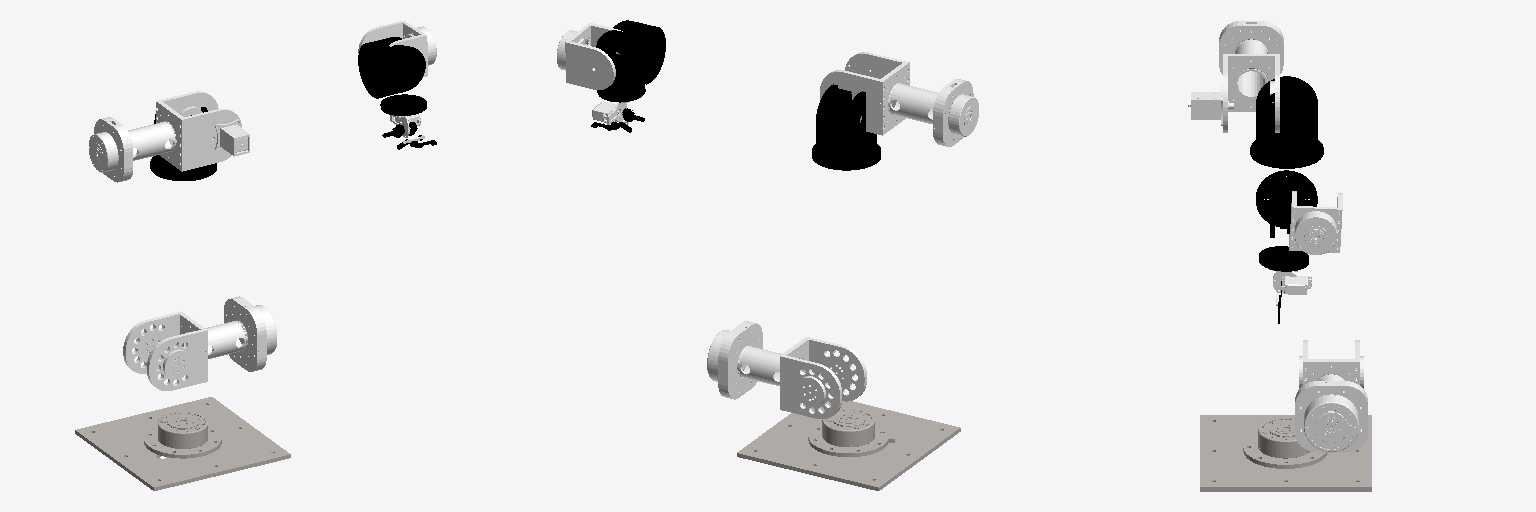
robot.urdf — daadbot:
<?xml version="1.0" ?>
<!-- =================================================================================== -->
<!-- |    This document was autogenerated by xacro from [local-path]/sdaadof_ws/src/daadbot_desc/urdf/daadbot.urdf.xacro | -->
<!-- |    EDITING THIS FILE BY HAND IS NOT RECOMMENDED                                 | -->
<!-- =================================================================================== -->
<robot name="daadbot">
  <gazebo>
    <plugin filename="gz_ros2_control-system" name="gz_ros2_control::GazeboSimROS2ControlPlugin">
      <parameters>[local-path]/sdaadof_ws/install/daadbot_controller/share/daadbot_controller/config/daadbot_controllers.yaml</parameters>
    </plugin>
  </gazebo>
  <ros2_control name="Manipulator" type="system">
    <hardware>
      <plugin>gz_ros2_control/GazeboSimSystem</plugin>
    </hardware>
    <joint name="joint_1">
      <command_interface name="position">
        <param name="min">-1.5707963267948966</param>
        <param name="max">1.5707963267948966</param>
      </command_interface>
      <state_interface name="position"/>
      <state_interface name="velocity"/>
      <state_interface name="effort"/>
    </joint>
    <joint name="joint_2">
      <command_interface name="position">
        <param name="min">-1.5707963267948966</param>
        <param name="max">1.5707963267948966</param>
      </command_interface>
      <state_interface name="position"/>
      <state_interface name="velocity"/>
      <state_interface name="effort"/>
    </joint>
    <joint name="joint_3">
      <command_interface name="position">
        <param name="min">-1.5707963267948966</param>
        <param name="max">1.5707963267948966</param>
      </command_interface>
      <state_interface name="position"/>
      <state_interface name="velocity"/>
      <state_interface name="effort"/>
    </joint>
    <joint name="joint_4">
      <command_interface name="position">
        <param name="min">-1.5707963267948966</param>
        <param name="max">1.5707963267948966</param>
      </command_interface>
      <state_interface name="position"/>
      <state_interface name="velocity"/>
      <state_interface name="effort"/>
    </joint>
    <joint name="joint_5">
      <command_interface name="position">
        <param name="min">-1.5707963267948966</param>
        <param name="max">1.5707963267948966</param>
      </command_interface>
      <state_interface name="position"/>
      <state_interface name="velocity"/>
      <state_interface name="effort"/>
    </joint>
    <joint name="joint_6">
      <command_interface name="position">
        <param name="min">-1.5707963267948966</param>
        <param name="max">1.5707963267948966</param>
      </command_interface>
      <state_interface name="position"/>
      <state_interface name="velocity"/>
      <state_interface name="effort"/>
    </joint>
    <joint name="joint_7">
      <command_interface name="position">
        <param name="min">-1.5707963267948966</param>
        <param name="max">1.5707963267948966</param>
      </command_interface>
      <state_interface name="position"/>
      <state_interface name="velocity"/>
      <state_interface name="effort"/>
    </joint>
    <joint name="gear1_joint">
      <command_interface name="position">
        <param name="min">-51.6</param>
        <param name="max">0.0</param>
      </command_interface>
      <state_interface name="position"/>
      <state_interface name="velocity"/>
      <state_interface name="effort"/>
    </joint>
    <joint name="base_claw_joint1">
      <param name="mimic">gear1_joint</param>
      <param name="multiplier">-1</param>
    </joint>
    <joint name="claw_joint1">
      <param name="mimic">base_claw_joint1</param>
      <param name="multiplier">1</param>
      <state_interface name="position"/>
      <state_interface name="velocity"/>
      <state_interface name="effort"/>
    </joint>
    <joint name="gear2_joint">
      <param name="mimic">gear1_joint</param>
      <param name="multiplier">-1</param>
    </joint>
    <joint name="base_claw_joint2">
      <param name="mimic">gear1_joint</param>
      <param name="multiplier">-1</param>
    </joint>
    <joint name="claw_joint2">
      <param name="mimic">base_claw_joint2</param>
      <param name="multiplier">-1</param>
    </joint>
  </ros2_control>
  <link name="world"/>
  <joint name="base_joint" type="fixed">
    <parent link="world"/>
    <child link="base_link"/>
    <origin rpy="0 0 0" xyz="0 0 0"/>
  </joint>
  <link name="base_link">
    <inertial>
      <origin rpy="0 0 0" xyz="0.00049737 0.00026123 0.0072038"/>
      <mass value="6.9112"/>
      <inertia ixx="0.046617" ixy="0.00010077" ixz="5.1488E-08" iyy="0.046482" iyz="-1.4461E-07" izz="0.092984"/>
    </inertial>
    <visual>
      <origin rpy="0 0 0" xyz="0 0 0"/>
      <geometry>
        <mesh filename="package://daadbot_desc/meshes/base_link.STL"/>
      </geometry>
      <material name="">
        <color rgba="0.77647 0.75686 0.73725 1"/>
      </material>
    </visual>
    <collision>
      <origin rpy="0 0 0" xyz="0 0 0"/>
      <geometry>
        <mesh filename="package://daadbot_desc/meshes/base_link.STL"/>
      </geometry>
    </collision>
  </link>
  <link name="Link_1">
    <inertial>
      <origin rpy="0 0 0" xyz="1.4551E-05 -0.0043711 0.069929"/>
      <mass value="1.4053"/>
      <inertia ixx="0.0017174" ixy="6.6784E-08" ixz="3.5551E-07" iyy="0.002626" iyz="6.0024E-06" izz="0.0017063"/>
    </inertial>
    <visual>
      <origin rpy="0 0 0" xyz="0 0 0"/>
      <geometry>
        <mesh filename="package://daadbot_desc/meshes/Link_1.STL"/>
      </geometry>
      <material name="">
        <color rgba="0 0 0 1"/>
      </material>
    </visual>
    <collision>
      <origin rpy="0 0 0" xyz="0 0 0"/>
      <geometry>
        <mesh filename="package://daadbot_desc/meshes/Link_1.STL"/>
      </geometry>
    </collision>
  </link>
  <joint name="joint_1" type="continuous">
    <origin rpy="0 0 3.1416" xyz="0 0 0.05"/>
    <parent link="base_link"/>
    <child link="Link_1"/>
    <axis xyz="0 0 -1"/>
    <limit effort="30.0" lower="0" upper="3.14" velocity="10.0"/>
  </joint>
  <link name="Link_2">
    <inertial>
      <origin rpy="0 0 0" xyz="-6.5548E-05 0.21409 0.034291"/>
      <mass value="3.4329"/>
      <inertia ixx="0.0091312" ixy="-2.4753E-06" ixz="8.4256E-07" iyy="0.0057112" iyz="5.0607E-06" izz="0.0099035"/>
    </inertial>
    <visual>
      <origin rpy="0 0 0" xyz="0 0 0"/>
      <geometry>
        <mesh filename="package://daadbot_desc/meshes/Link_2.STL"/>
      </geometry>
      <material name="">
        <color rgba="1 1 1 1"/>
      </material>
    </visual>
    <collision>
      <origin rpy="0 0 0" xyz="0 0 0"/>
      <geometry>
        <mesh filename="package://daadbot_desc/meshes/Link_2.STL"/>
      </geometry>
    </collision>
  </link>
  <joint name="joint_2" type="revolute">
    <origin rpy="1.5707963267949 0 -3.14159265358979" xyz="0 -0.02999999999948 0.107500000000395"/>
    <parent link="Link_1"/>
    <child link="Link_2"/>
    <axis xyz="0 0 -1"/>
    <limit effort="30.0" lower="-1.9199" upper="1.9199" velocity="10.0"/>
  </joint>
  <link name="Link_3">
    <inertial>
      <origin rpy="0 0 0" xyz="-2.1655E-05 0.0044003 0.0672"/>
      <mass value="1.3788"/>
      <inertia ixx="0.0016215" ixy="-9.275E-08" ixz="2.8899E-07" iyy="0.0025027" iyz="-5.4475E-06" izz="0.0016785"/>
    </inertial>
    <visual>
      <origin rpy="0 0 0" xyz="0 0 0"/>
      <geometry>
        <mesh filename="package://daadbot_desc/meshes/Link_3.STL"/>
      </geometry>
      <material name="">
        <color rgba="0 0 0 1"/>
      </material>
    </visual>
    <collision>
      <origin rpy="0 0 0" xyz="0 0 0"/>
      <geometry>
        <mesh filename="package://daadbot_desc/meshes/Link_3.STL"/>
      </geometry>
    </collision>
  </link>
  <joint name="joint_3" type="continuous">
    <origin rpy="1.57079632680726 0 3.14159265358979" xyz="0.000359289684152012 0.435033961918617 0.0294474762975983"/>
    <parent link="Link_2"/>
    <child link="Link_3"/>
    <axis xyz="0 0 -1"/>
    <limit effort="30.0" lower="0" upper="3.14" velocity="10.0"/>
  </joint>
  <link name="Link_4">
    <inertial>
      <origin rpy="0 0 0" xyz="0.22054 0.00021752 -0.034312"/>
      <mass value="3.5515"/>
      <inertia ixx="0.0043885" ixy="2.6288E-06" ixz="-3.6827E-06" iyy="0.0083524" iyz="-3.8569E-06" izz="0.0091315"/>
    </inertial>
    <visual>
      <origin rpy="0 0 0" xyz="0 0 0"/>
      <geometry>
        <mesh filename="package://daadbot_desc/meshes/Link_4.STL"/>
      </geometry>
      <material name="">
        <color rgba="1 1 1 1"/>
      </material>
    </visual>
    <collision>
      <origin rpy="0 0 0" xyz="0 0 0"/>
      <geometry>
        <mesh filename="package://daadbot_desc/meshes/Link_4.STL"/>
      </geometry>
    </collision>
  </link>
  <joint name="joint_4" type="revolute">
    <origin rpy="1.5707963267949 0 3.14159265358979" xyz="0 0.0299999999999995 0.102500000000001"/>
    <parent link="Link_3"/>
    <child link="Link_4"/>
    <axis xyz="0 0 1"/>
    <limit effort="30.0" lower="-0.2618" upper="3.4907" velocity="10.0"/>
  </joint>
  <link name="Link_5">
    <inertial>
      <origin rpy="0 0 0" xyz="0.0058409 -0.0002627 0.054755"/>
      <mass value="1.4559"/>
      <inertia ixx="0.0013388" ixy="-2.389E-05" ixz="-1.7038E-06" iyy="0.00084376" iyz="-2.3795E-07" izz="0.0009966"/>
    </inertial>
    <visual>
      <origin rpy="0 0 0" xyz="0 0 0"/>
      <geometry>
        <mesh filename="package://daadbot_desc/meshes/Link_5.STL"/>
      </geometry>
      <material name="">
        <color rgba="0 0 0 1"/>
      </material>
    </visual>
    <collision>
      <origin rpy="0 0 0" xyz="0 0 0"/>
      <geometry>
        <mesh filename="package://daadbot_desc/meshes/Link_5.STL"/>
      </geometry>
    </collision>
  </link>
  <joint name="joint_5" type="continuous">
    <origin rpy="0 1.5707963267949 0" xyz="0.419299903678905 0 -0.0294999999999992"/>
    <parent link="Link_4"/>
    <child link="Link_5"/>
    <axis xyz="0 0 -1"/>
    <limit effort="30.0" lower="0" upper="3.14" velocity="10.0"/>
  </joint>
  <link name="Link_6">
    <inertial>
      <origin rpy="0 0 0" xyz="0.00011175 -0.056394 -0.023876"/>
      <mass value="1.4077"/>
      <inertia ixx="0.00078211" ixy="-9.9306E-07" ixz="3.1036E-06" iyy="0.0010474" iyz="1.657E-06" izz="0.00099212"/>
    </inertial>
    <visual>
      <origin rpy="0 0 0" xyz="0 0 0"/>
      <geometry>
        <mesh filename="package://daadbot_desc/meshes/link_6.STL"/>
      </geometry>
      <material name="">
        <color rgba="1 1 1 1"/>
      </material>
    </visual>
    <collision>
      <origin rpy="0 0 0" xyz="0 0 0"/>
      <geometry>
        <mesh filename="package://daadbot_desc/meshes/link_6.STL"/>
      </geometry>
    </collision>
  </link>
  <joint name="joint_6" type="revolute">
    <origin rpy="0.0506935943659278 1.5707963267949 0" xyz="0.0239691789943203 -0.00121612576549357 0.0675000000000011"/>
    <parent link="Link_5"/>
    <child link="Link_6"/>
    <axis xyz="0 0 1"/>
    <limit effort="30.0" lower="-3.141001" upper="0.00001" velocity="10.0"/>
  </joint>
  <link name="Link_7">
    <inertial>
      <origin rpy="0 0 0" xyz="8.2711E-06 3.9121E-07 0.0087604"/>
      <mass value="0.18439"/>
      <inertia ixx="8.0523E-05" ixy="-8.9234E-11" ixz="-4.712E-11" iyy="8.0525E-05" iyz="-2.2287E-12" izz="0.00015908"/>
    </inertial>
    <visual>
      <origin rpy="0 0 0" xyz="0 0 0"/>
      <geometry>
        <mesh filename="package://daadbot_desc/meshes/Link_7.STL"/>
      </geometry>
      <material name="">
        <color rgba="0 0 0 1"/>
      </material>
    </visual>
    <collision>
      <origin rpy="0 0 0" xyz="0 0 0"/>
      <geometry>
        <mesh filename="package://daadbot_desc/meshes/Link_7.STL"/>
      </geometry>
    </collision>
  </link>
  <joint name="joint_7" type="continuous">
    <origin rpy="-1.5707963267949 0 3.14159265358979" xyz="0 -0.0909999036788988 -0.0244999999999991"/>
    <parent link="Link_6"/>
    <child link="Link_7"/>
    <axis xyz="0 0 -1"/>
    <limit effort="30.0" lower="0" upper="3.14" velocity="10.0"/>
  </joint>
  <link name="endeffector">
    <inertial>
      <origin rpy="0 0 0" xyz="-0.0198 -0.019334 0.047383"/>
      <mass value="0.10291"/>
      <inertia ixx="1.41E-05" ixy="-4.3343E-07" ixz="-9.812E-08" iyy="2.056E-05" iyz="-4.6453E-09" izz="2.527E-05"/>
    </inertial>
    <visual>
      <origin rpy="0 0 0" xyz="0 0 0"/>
      <geometry>
        <mesh filename="package://daadbot_desc/meshes/endeffector.STL"/>
      </geometry>
      <material name="">
        <color rgba="1 1 1 1"/>
      </material>
    </visual>
    <collision>
      <origin rpy="0 0 0" xyz="0 0 0"/>
      <geometry>
        <mesh filename="package://daadbot_desc/meshes/endeffector.STL"/>
      </geometry>
    </collision>
  </link>
  <joint name="endeffector_joint" type="fixed">
    <origin rpy="0 0 0" xyz="0 0 0"/>
    <parent link="Link_7"/>
    <child link="endeffector"/>
    <axis xyz="0 0 0"/>
  </joint>
  <link name="gear1">
    <inertial>
      <origin rpy="0 0 0" xyz="0.00049542 -0.0057094 0.0018167"/>
      <mass value="0.0053"/>
      <inertia ixx="7.5591E-07" ixy="-2.1833E-08" ixz="-6.9871E-09" iyy="1.8107E-07" iyz="3.6804E-08" izz="9.2464E-07"/>
    </inertial>
    <visual>
      <origin rpy="0 0 0" xyz="0 0 0"/>
      <geometry>
        <mesh filename="package://daadbot_desc/meshes/gear1.STL"/>
      </geometry>
      <material name="">
        <color rgba="0 0 0 1"/>
      </material>
    </visual>
    <collision>
      <origin rpy="0 0 0" xyz="0 0 0"/>
      <geometry>
        <mesh filename="package://daadbot_desc/meshes/gear1.STL"/>
      </geometry>
    </collision>
  </link>
  <joint name="gear1_joint" type="revolute">
    <origin rpy="-1.52010273242897 0 0" xyz="-0.0136030394768413 0.00185938617586617 0.0481789689084899"/>
    <parent link="endeffector"/>
    <child link="gear1"/>
    <axis xyz="-0.0472460759822869 0.0506152984712181 0.997600070100712"/>
    <limit effort="30.0" lower="-0.9" upper="0" velocity="10.0"/>
  </joint>
  <link name="gear1_claw">
    <inertial>
      <origin rpy="0 0 0" xyz="0.0054214 -0.023631 -0.0030551"/>
      <mass value="0.0039374"/>
      <inertia ixx="1.2119E-06" ixy="1.6298E-07" ixz="-1.0864E-08" iyy="6.47E-08" iyz="6.8703E-08" izz="1.2627E-06"/>
    </inertial>
    <visual>
      <origin rpy="0 0 0" xyz="0 0 0"/>
      <geometry>
        <mesh filename="package://daadbot_desc/meshes/gear1_claw.STL"/>
      </geometry>
      <material name="">
        <color rgba="0 0 0 1"/>
      </material>
    </visual>
    <collision>
      <origin rpy="0 0 0" xyz="0 0 0"/>
      <geometry>
        <mesh filename="package://daadbot_desc/meshes/gear1_claw.STL"/>
      </geometry>
    </collision>
  </link>
  <joint name="claw_joint1" type="revolute">
    <origin rpy="0 0 0" xyz="-0.000267699277291311 -0.0308336350288896 0.00405774420117622"/>
    <parent link="gear1"/>
    <child link="gear1_claw"/>
    <axis xyz="-0.0472460759822531 0.0506152984712519 0.997600070100712"/>
    <limit effort="30.0" lower="0" upper="0.9" velocity="10.0"/>
    <mimic joint="base_claw_joint1" multiplier="1" offset="0"/>
  </joint>
  <link name="gear2_link">
    <inertial>
      <origin rpy="0 0 0" xyz="0.00014723 -0.0053735 -0.001224"/>
      <mass value="0.0057636"/>
      <inertia ixx="8.0509E-07" ixy="7.9758E-09" ixz="-1.0182E-08" iyy="2.1764E-07" iyz="4.0658E-08" izz="1.009E-06"/>
    </inertial>
    <visual>
      <origin rpy="0 0 0" xyz="0 0 0"/>
      <geometry>
        <mesh filename="package://daadbot_desc/meshes/gear2_link.STL"/>
      </geometry>
      <material name="">
        <color rgba="0 0 0 1"/>
      </material>
    </visual>
    <collision>
      <origin rpy="0 0 0" xyz="0 0 0"/>
      <geometry>
        <mesh filename="package://daadbot_desc/meshes/gear2_link.STL"/>
      </geometry>
    </collision>
  </link>
  <joint name="gear2_joint" type="revolute">
    <origin rpy="-1.52010273242897 0 0" xyz="0.013248693908315 0.0056322384288611 0.0481789689082828"/>
    <parent link="endeffector"/>
    <child link="gear2_link"/>
    <axis xyz="-0.0472460759822667 0.0506152984712492 0.997600070100711"/>
    <limit effort="30.0" lower="0" upper="0.9" velocity="10.0"/>
    <mimic joint="gear1_joint" multiplier="-1" offset="0"/>
  </joint>
  <link name="gear2_claw">
    <inertial>
      <origin rpy="0 0 0" xyz="-0.0049965 -0.023656 -0.0035472"/>
      <mass value="0.0039374"/>
      <inertia ixx="1.2119E-06" ixy="-1.6326E-07" ixz="5.6881E-09" iyy="6.3141E-08" iyz="5.3332E-08" izz="1.2642E-06"/>
    </inertial>
    <visual>
      <origin rpy="0 0 0" xyz="0 0 0"/>
      <geometry>
        <mesh filename="package://daadbot_desc/meshes/gear2_claw.STL"/>
      </geometry>
      <material name="">
        <color rgba="0 0 0 1"/>
      </material>
    </visual>
    <collision>
      <origin rpy="0 0 0" xyz="0 0 0"/>
      <geometry>
        <mesh filename="package://daadbot_desc/meshes/gear2_claw.STL"/>
      </geometry>
    </collision>
  </link>
  <joint name="claw_joint2" type="revolute">
    <origin rpy="0 0 0" xyz="0.000446202525255179 -0.0309558921236726 0.00159174310957538"/>
    <parent link="gear2_link"/>
    <child link="gear2_claw"/>
    <axis xyz="-0.0472460759823001 0.050615298471215 0.997600070100712"/>
    <limit effort="30.0" lower="-0.9" upper="0" velocity="10.0"/>
    <mimic joint="base_claw_joint2" multiplier="-1" offset="0"/>
  </joint>
  <link name="base_claw_link2">
    <inertial>
      <origin rpy="0 0 0" xyz="0.00030048 -0.015554 -0.00070023"/>
      <mass value="0.0011042"/>
      <inertia ixx="1.5464E-07" ixy="2.238E-09" ixz="-1.8519E-10" iyy="3.5683E-09" iyz="7.8475E-09" izz="1.5574E-07"/>
    </inertial>
    <visual>
      <origin rpy="0 0 0" xyz="0 0 0"/>
      <geometry>
        <mesh filename="package://daadbot_desc/meshes/base_claw_link2.STL"/>
      </geometry>
      <material name="">
        <color rgba="1 1 1 1"/>
      </material>
    </visual>
    <collision>
      <origin rpy="0 0 0" xyz="0 0 0"/>
      <geometry>
        <mesh filename="package://daadbot_desc/meshes/base_claw_link2.STL"/>
      </geometry>
    </collision>
  </link>
  <joint name="base_claw_joint2" type="revolute">
    <origin rpy="-1.52010273242897 0 0" xyz="0.00500790684313079 0.00524245830200445 0.0685789689082188"/>
    <parent link="Link_7"/>
    <child link="base_claw_link2"/>
    <axis xyz="-0.0472460759822792 0.0506152984712578 0.99760007010071"/>
    <limit effort="30.0" lower="0" upper="0.9" velocity="10.0"/>
    <mimic joint="gear1_joint" multiplier="-1" offset="0"/>
  </joint>
  <link name="base_claw_link1">
    <inertial>
      <origin rpy="0 0 0" xyz="-1.058E-05 -0.015556 -0.00071484"/>
      <mass value="0.0011042"/>
      <inertia ixx="1.5467E-07" ixy="-7.9881E-10" ixz="-2.9739E-11" iyy="3.5247E-09" iyz="7.7059E-09" izz="1.5576E-07"/>
    </inertial>
    <visual>
      <origin rpy="0 0 0" xyz="0 0 0"/>
      <geometry>
        <mesh filename="package://daadbot_desc/meshes/base_claw_link1.STL"/>
      </geometry>
      <material name="">
        <color rgba="1 1 1 1"/>
      </material>
    </visual>
    <collision>
      <origin rpy="0 0 0" xyz="0 0 0"/>
      <geometry>
        <mesh filename="package://daadbot_desc/meshes/base_claw_link1.STL"/>
      </geometry>
    </collision>
  </link>
  <joint name="base_claw_joint1" type="revolute">
    <origin rpy="-1.52010273242897 0 0" xyz="-0.00548036760308535 0.0047463745042049 0.0685789689085226"/>
    <parent link="Link_7"/>
    <child link="base_claw_link1"/>
    <axis xyz="0.0472460759822863 -0.0506152984712078 -0.997600070100712"/>
    <limit effort="30.0" lower="0" upper="0.9" velocity="10.0"/>
    <mimic joint="gear1_joint" multiplier="-1" offset="0"/>
  </joint>
</robot>

--- Facts derived from the render (not from the file) ---
3 views of the same robot in one strip: view 1: azimuth 30°, elevation 25°; view 2: azimuth 150°, elevation 25°; view 3: azimuth 270°, elevation 25° (orthographic).
Model daadbot with 16 links and 15 joints (9 revolute, 4 continuous, 2 fixed), rooted at world, posed every joint at zero.
Links seen in each view (by area): view 1: base_link, Link_2, Link_4, Link_5, Link_6, Link_3, Link_7; view 2: base_link, Link_2, Link_4, Link_3, Link_5, Link_6, Link_7, endeffector; view 3: base_link, Link_2, Link_4, Link_3, Link_6, Link_5, Link_7, endeffector.
Link boxes in pixels (x1,y1,x2,y2): base_link: [75, 397, 290, 490]; Link_2: [123, 296, 276, 390]; Link_4: [89, 91, 249, 182]; Link_5: [358, 37, 425, 98]; Link_6: [358, 21, 436, 76]; Link_3: [150, 107, 216, 180]; Link_7: [380, 94, 426, 115]; base_link: [737, 401, 960, 490]; Link_2: [707, 321, 866, 418]; Link_4: [820, 52, 978, 146]; Link_3: [812, 84, 880, 170]; Link_5: [596, 20, 665, 84]; Link_6: [557, 22, 622, 89]; Link_7: [597, 77, 645, 102]; endeffector: [592, 101, 627, 124]; base_link: [1200, 415, 1371, 491]; Link_2: [1295, 340, 1367, 452]; Link_4: [1188, 20, 1283, 132]; Link_3: [1250, 76, 1323, 168]; Link_6: [1289, 191, 1342, 254]; Link_5: [1256, 170, 1317, 237]; Link_7: [1259, 246, 1308, 271]; endeffector: [1269, 269, 1311, 294].
Size in the robot's own frame: 0.8023 by 0.3253 by 0.7567 metres.
Meshes: 15 distinct files referenced, 14 mesh visuals loaded (14 binary STL); not drawn: 1 (reference not matched to a file when rendering).
